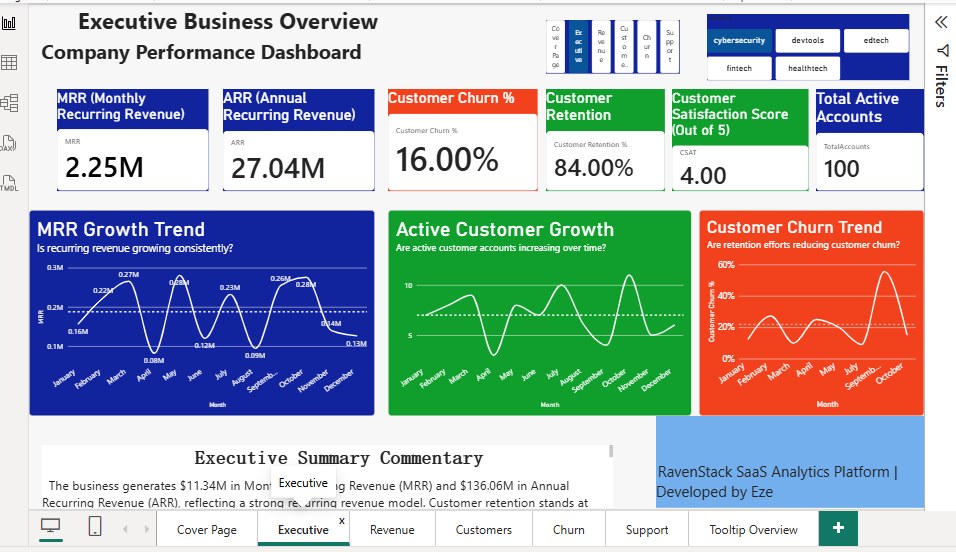

Layout of this report page (visuals, bound fields, positions):
{"tool":"powerbi","page":{"name":"Executive","canvas":[1920,1080],"ordinal":1},"visuals":[{"type":"textbox","box":[0,0,786.6,133.9],"z":0},{"type":"cardVisual","title":"MRR (Monthly Recurring Revenue)","fields":{"Data":["dim_accounts.MRR"]},"box":[59.5,180.7,325.3,219],"z":1000},{"type":"cardVisual","title":"ARR (Annual Recurring Revenue)","fields":{"Data":["dim_accounts.ARR"]},"box":[416.7,180.7,325.3,219],"z":2000},{"type":"cardVisual","title":"Customer Churn %","fields":{"Data":["dim_accounts.Customer Churn %"]},"box":[769.6,180.7,321,219],"z":3000},{"type":"cardVisual","title":"Customer Retention","fields":{"Data":["dim_accounts.Customer Retention %"]},"box":[1109.8,180.7,255.1,219],"z":4000},{"type":"cardVisual","title":"Customer Satisfaction Score (Out of 5)","fields":{"Data":["dim_accounts.CSAT"]},"box":[1379.8,180.7,293.4,219],"z":5000},{"type":"textbox","box":[27.9,943.9,1224.9,135.2],"z":6000},{"type":"lineChart","title":"MRR Growth Trend","fields":{"Category":["dim_accounts.signup_date.Variation.Date Hierarchy.Month"],"Y":["dim_accounts.MRR"]},"box":[0,440.1,742,442.2],"z":7000},{"type":"lineChart","title":"Active Customer Growth","fields":{"Category":["dim_accounts.signup_date.Variation.Date Hierarchy.Year","dim_accounts.signup_date.Variation.Date Hierarchy.Month"],"Y":["dim_accounts.ActiveAccounts"]},"box":[769.6,440.1,650.6,442.2],"z":8000},{"type":"cardVisual","title":"Total Active Accounts","fields":{"Data":["dim_accounts.TotalAccounts"]},"box":[1688,180.7,231.7,219],"z":9000},{"type":"lineChart","title":"Customer Churn Trend","fields":{"Category":["dim_accounts.signup_date.Variation.Date Hierarchy.Month"],"Y":["dim_accounts.Customer Churn %"]},"box":[1437.2,440.1,482.6,442.2],"z":10000},{"type":"pageNavigator","box":[1109.8,31.9,287,114.8],"z":11000},{"type":"advancedSlicerVisual","fields":{"Values":["dim_accounts.industry"]},"box":[1454.2,19.1,433.7,142.4],"z":11001},{"type":"textbox","box":[1345.1,881.7,574.9,197.4],"z":11002}]}

Visuals, with their boxes on the page's 1920x1080 design canvas (x1, y1, x2, y2). These are canvas units, not pixel positions in the 956x552 screenshot, which may show the page scaled, cropped or inside an application window:
textbox: <box>0,0,787,134</box>
"MRR (Monthly Recurring Revenue)" cardVisual: <box>60,181,385,400</box>
"ARR (Annual Recurring Revenue)" cardVisual: <box>417,181,742,400</box>
"Customer Churn %" cardVisual: <box>770,181,1091,400</box>
"Customer Retention" cardVisual: <box>1110,181,1365,400</box>
"Customer Satisfaction Score (Out of 5)" cardVisual: <box>1380,181,1673,400</box>
textbox: <box>28,944,1253,1079</box>
"MRR Growth Trend" lineChart: <box>0,440,742,882</box>
"Active Customer Growth" lineChart: <box>770,440,1420,882</box>
"Total Active Accounts" cardVisual: <box>1688,181,1920,400</box>
"Customer Churn Trend" lineChart: <box>1437,440,1920,882</box>
pageNavigator: <box>1110,32,1397,147</box>
advancedSlicerVisual - dim_accounts.industry: <box>1454,19,1888,162</box>
textbox: <box>1345,882,1920,1079</box>
